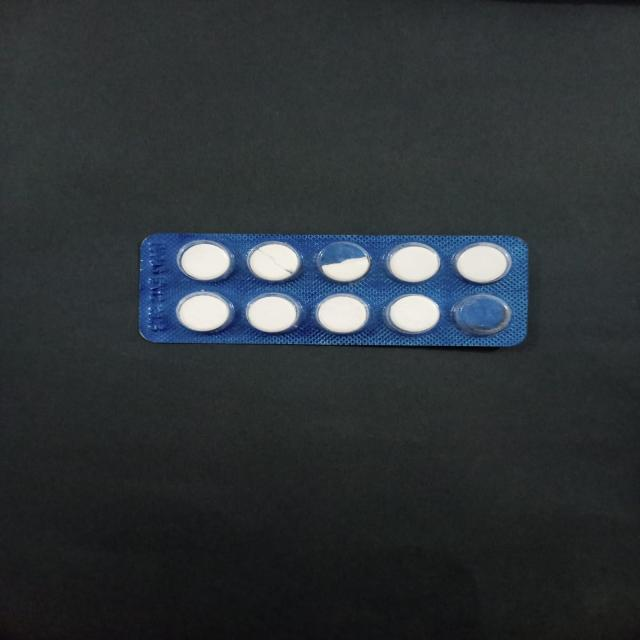defect: (449, 291, 516, 337), (311, 238, 375, 286), (245, 239, 306, 284)
